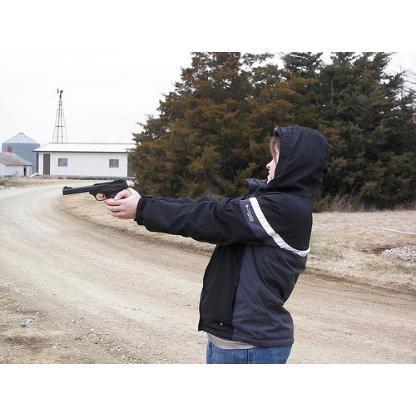gun: (58, 176, 134, 220)
